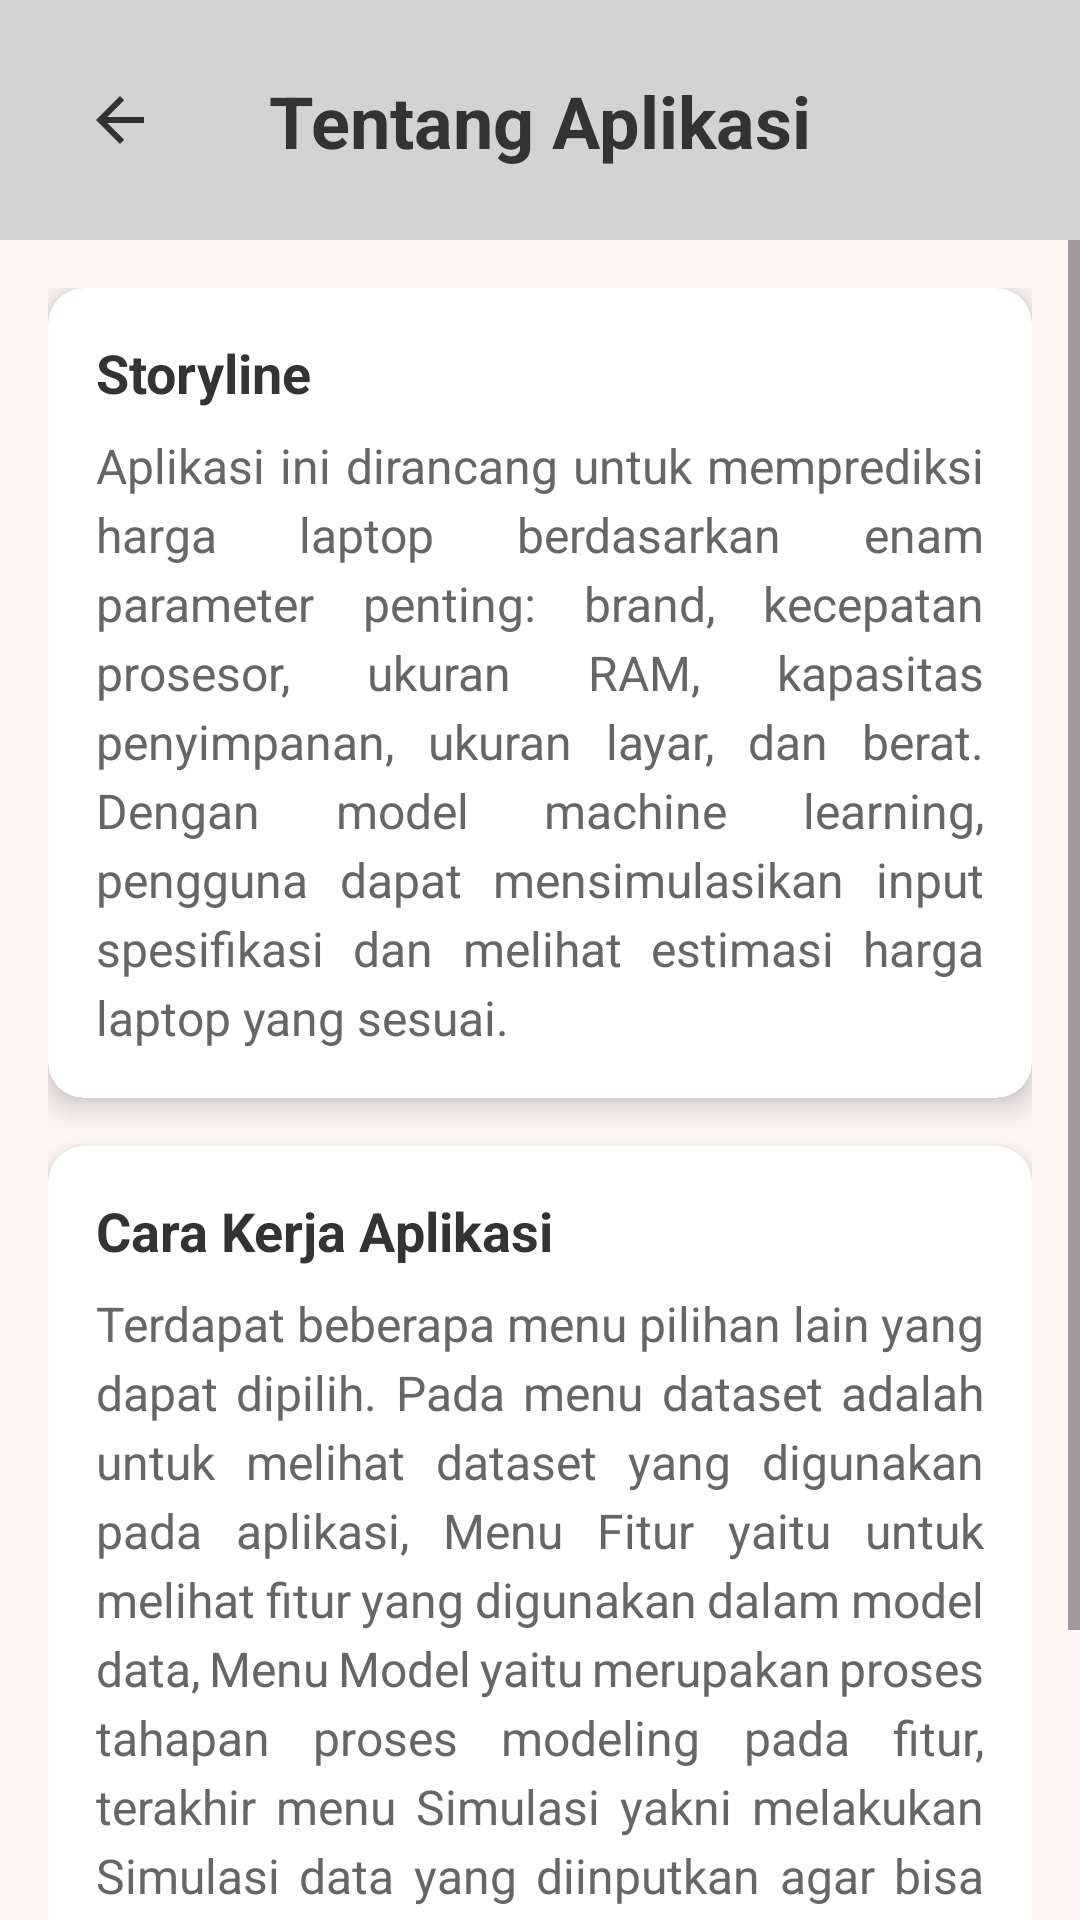

Named icons in this screenshot (1080 × 1920) and their bounding boxes, (x1, y1, x2, y2):
Kembali: (96, 96, 144, 144)
